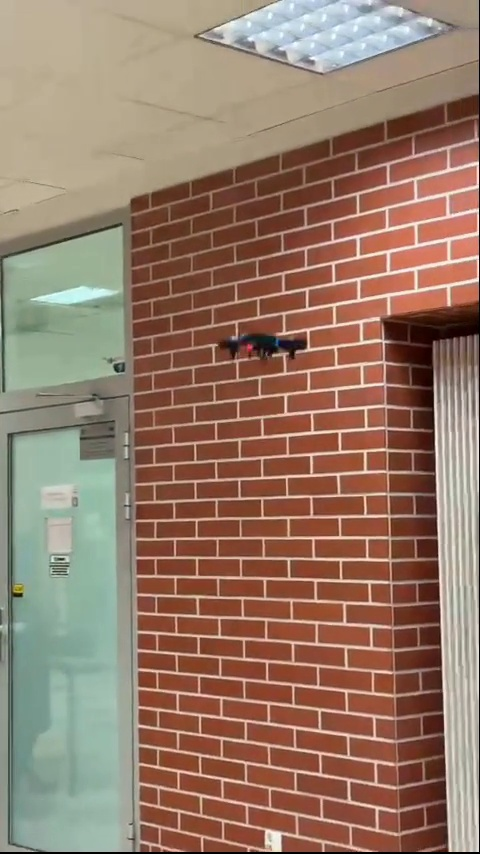drone: (217, 330, 305, 364)
